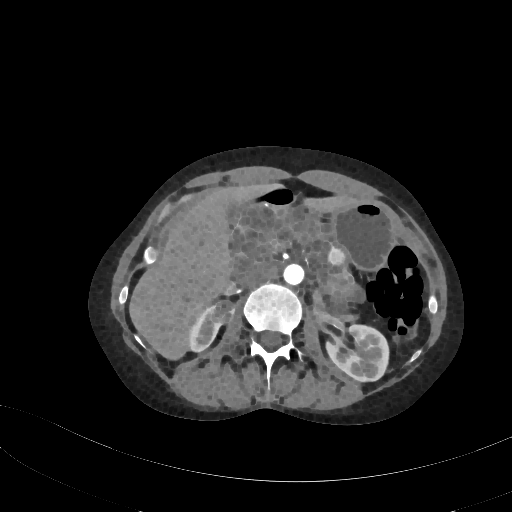Lesion: (212, 297, 235, 325)
